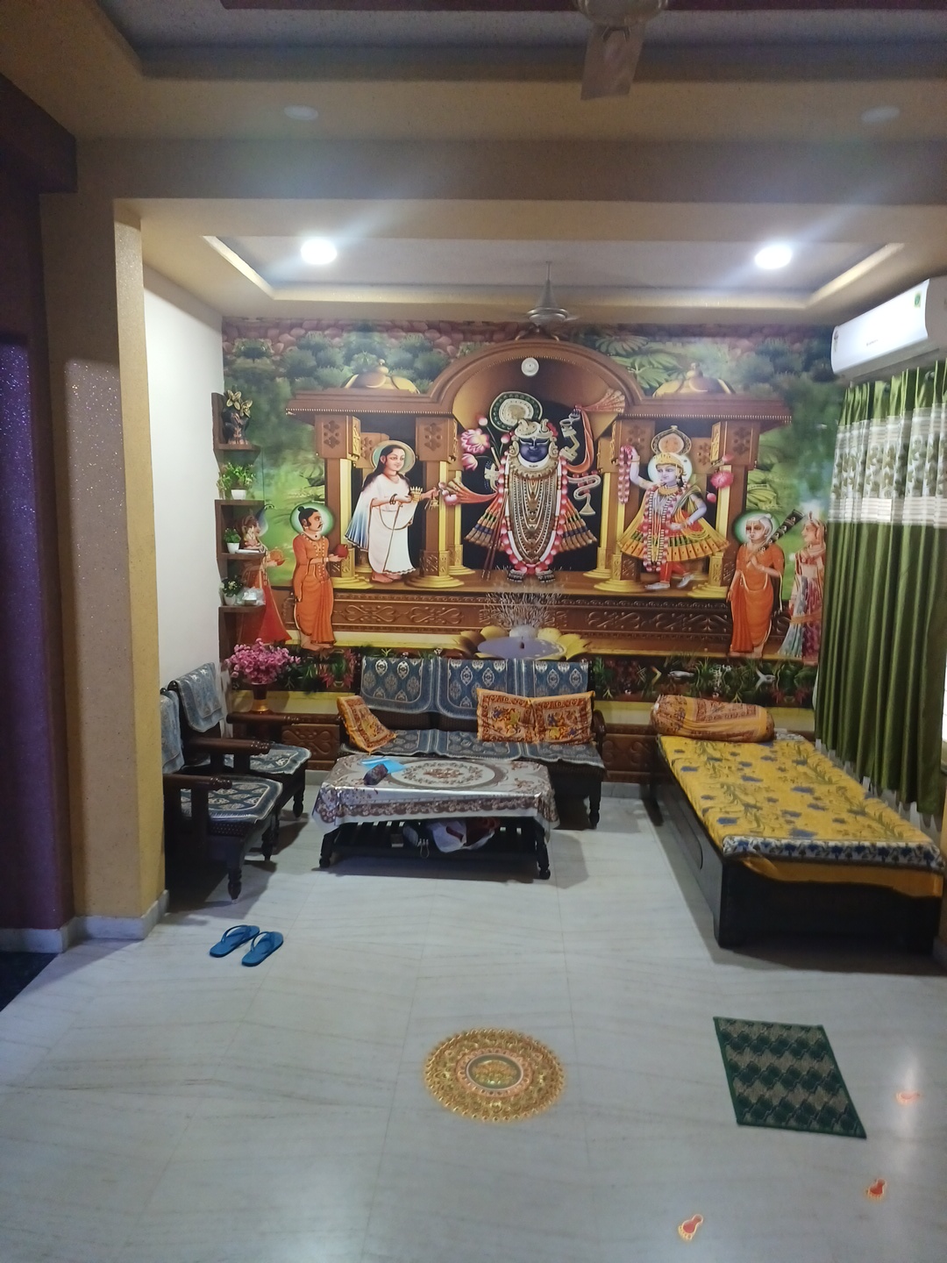bed: (648, 731, 947, 949)
sofa: (340, 655, 608, 827), (164, 688, 287, 898), (164, 660, 309, 824)
table: (312, 755, 558, 881)
